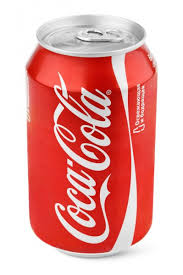can: (23, 11, 161, 261)
